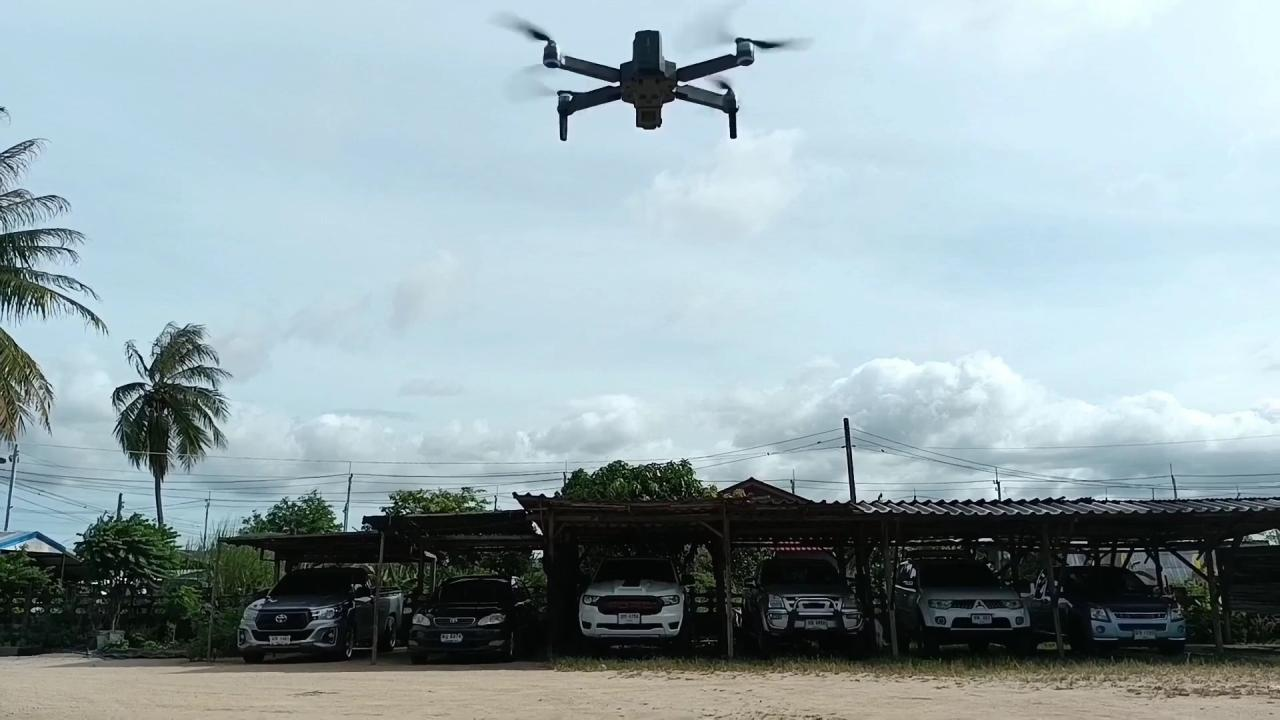Drone: (474, 1, 829, 159)
